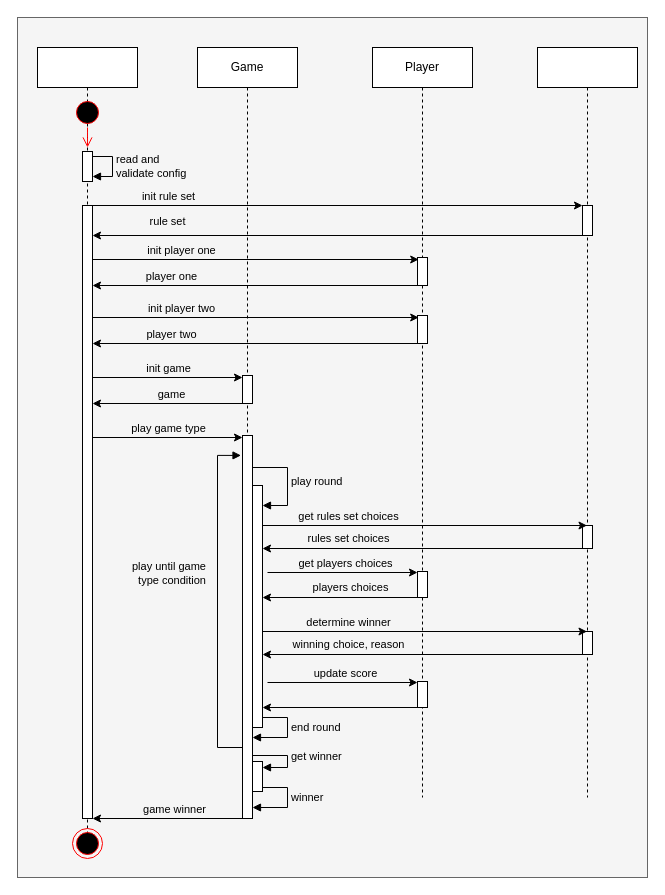
The diagram is 665 pixels wide and 895 high, and some of its shapes have lost their labels. The shapes that lost their labels are listed below. From the top down, each one's box as (x1, y1, x2, y2) in pixels, then its label:
(36, 46, 138, 838): Main
(536, 46, 638, 798): RuleSet
